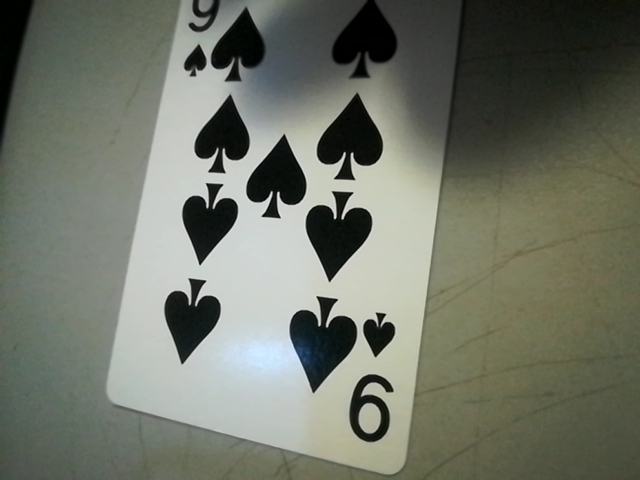ht 9: (340, 292, 410, 458)
